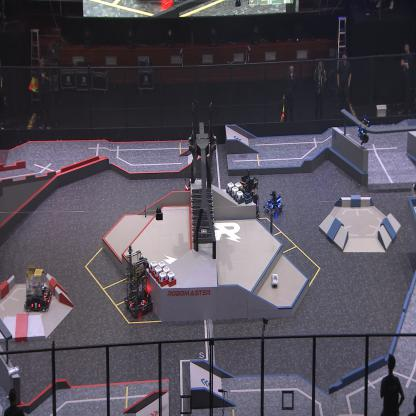car: (123, 249, 154, 319), (23, 263, 52, 313), (237, 170, 260, 222), (263, 189, 285, 216)
